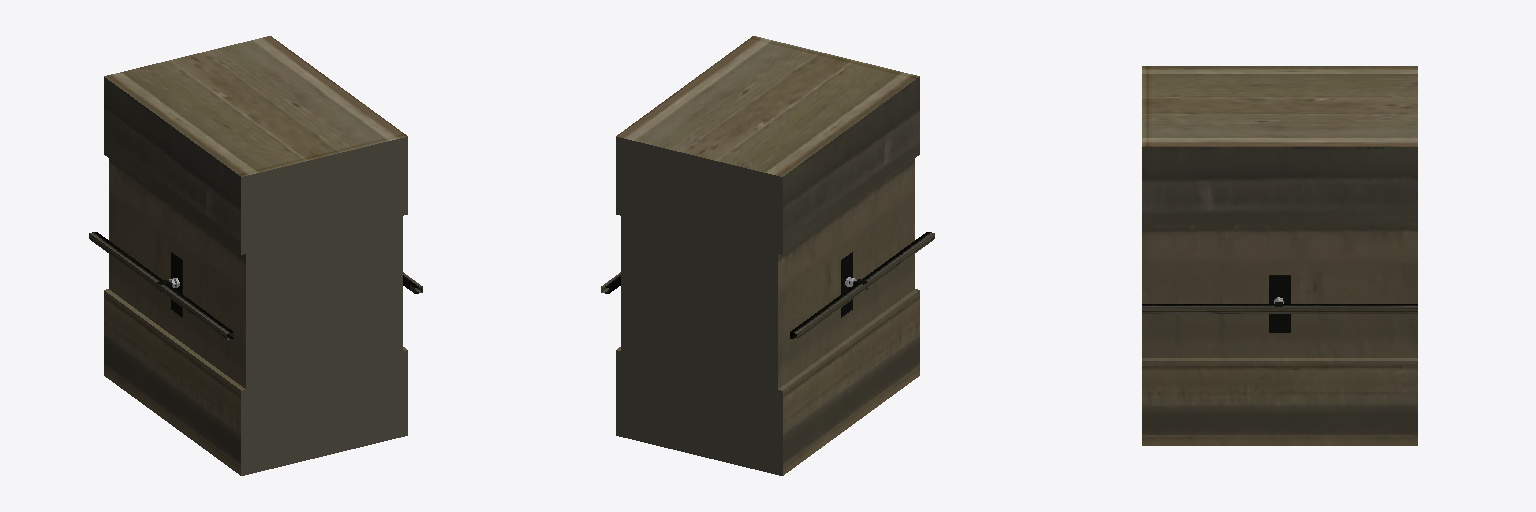
The picture shows the model from 3 angles: view 1: azimuth 30°, elevation 25°; view 2: azimuth 150°, elevation 25°; view 3: azimuth 270°, elevation 25°; orthographic projection.
Parts seen in each view (by area): view 1: Mesh1 mesh_0_2_1 dangui_obj_1_1 Model; view 2: Mesh1 mesh_0_2_1 dangui_obj_1_1 Model; view 3: Mesh1 mesh_0_2_1 dangui_obj_1_1 Model.
Part boxes in pixels (x1,y1,x2,y2): Mesh1 mesh_0_2_1 dangui_obj_1_1 Model: (89,36,422,475); Mesh1 mesh_0_2_1 dangui_obj_1_1 Model: (601,36,934,475); Mesh1 mesh_0_2_1 dangui_obj_1_1 Model: (1142,66,1417,445).
Bounding box in the file's own units: 0.82 × 1.2 × 1.
Materials: 6 (6 with a texture image).